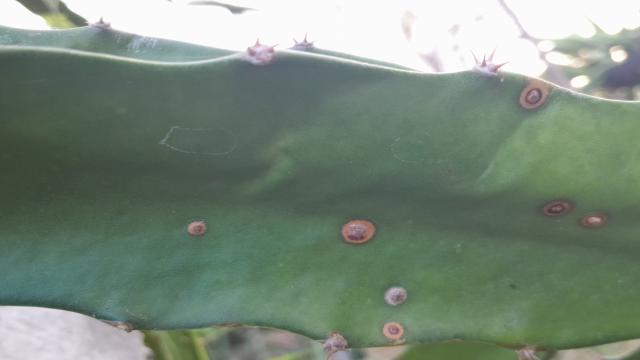stemcanker: (332, 213, 384, 249), (515, 83, 554, 113), (536, 196, 577, 221), (576, 210, 610, 233), (380, 319, 409, 343), (185, 217, 210, 244), (383, 284, 409, 309)
